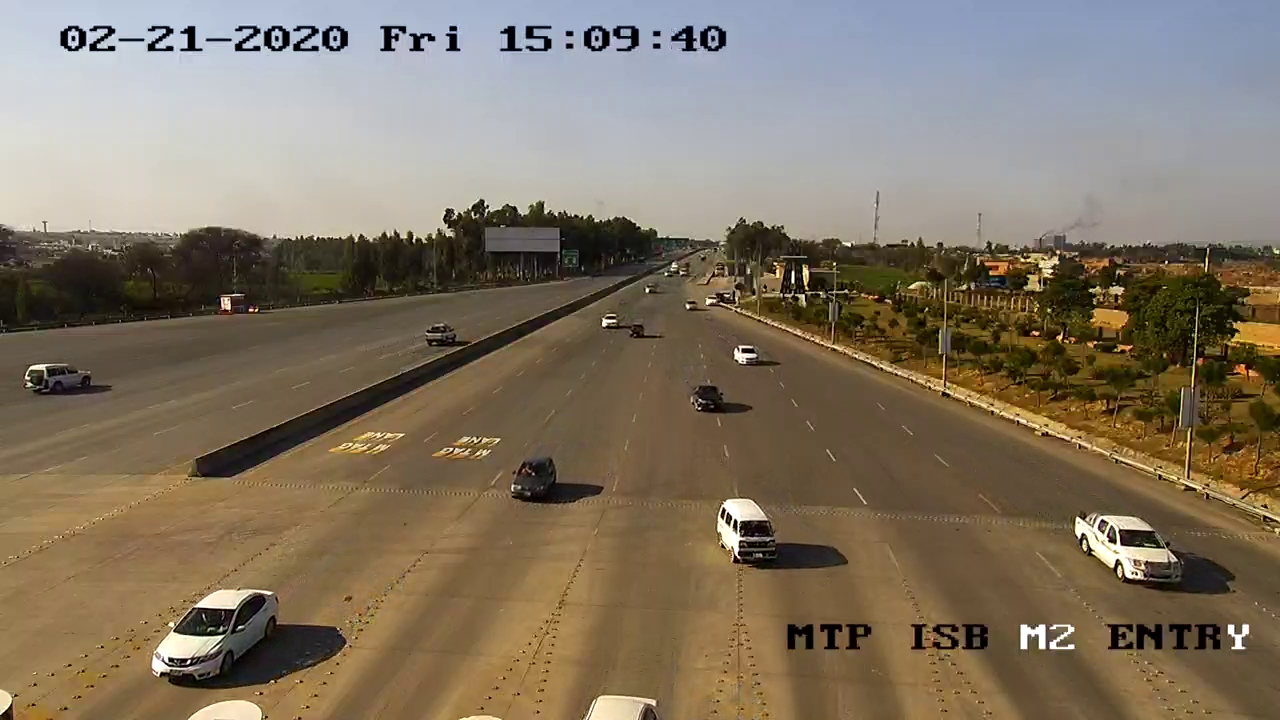f1: (133, 579, 294, 689), (1065, 500, 1198, 595), (711, 492, 784, 571), (507, 445, 563, 507)
